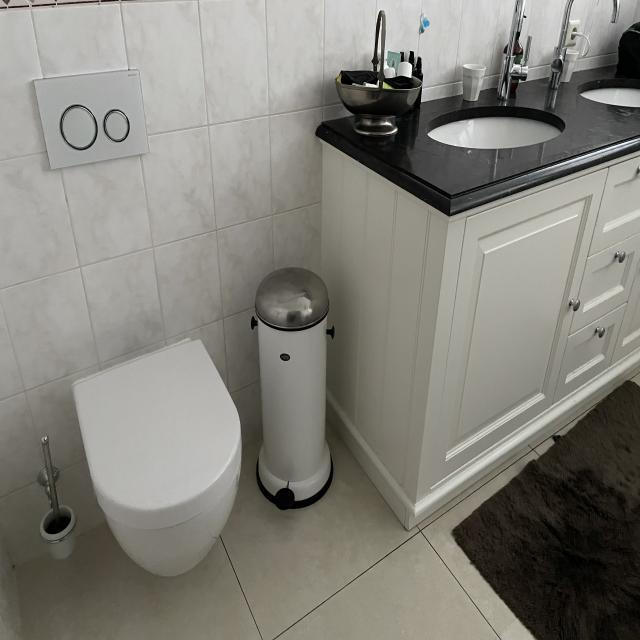toilet: (35, 68, 243, 578)
wastafel: (320, 137, 640, 532), (423, 0, 640, 151)
